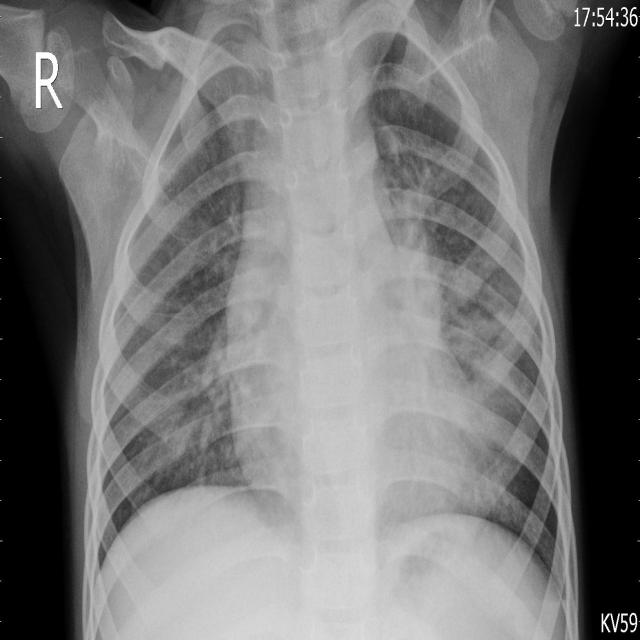low-pneumonia: (385, 153, 518, 410)
